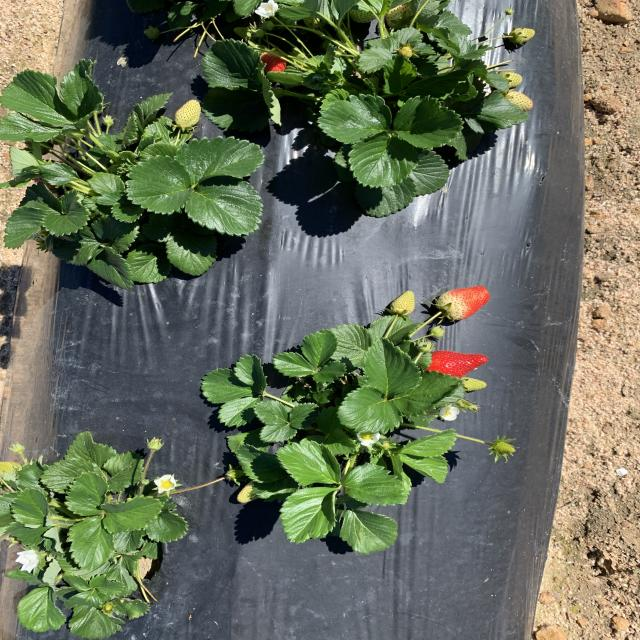unripe: (412, 345, 492, 383), (436, 283, 491, 323), (252, 39, 295, 79)
